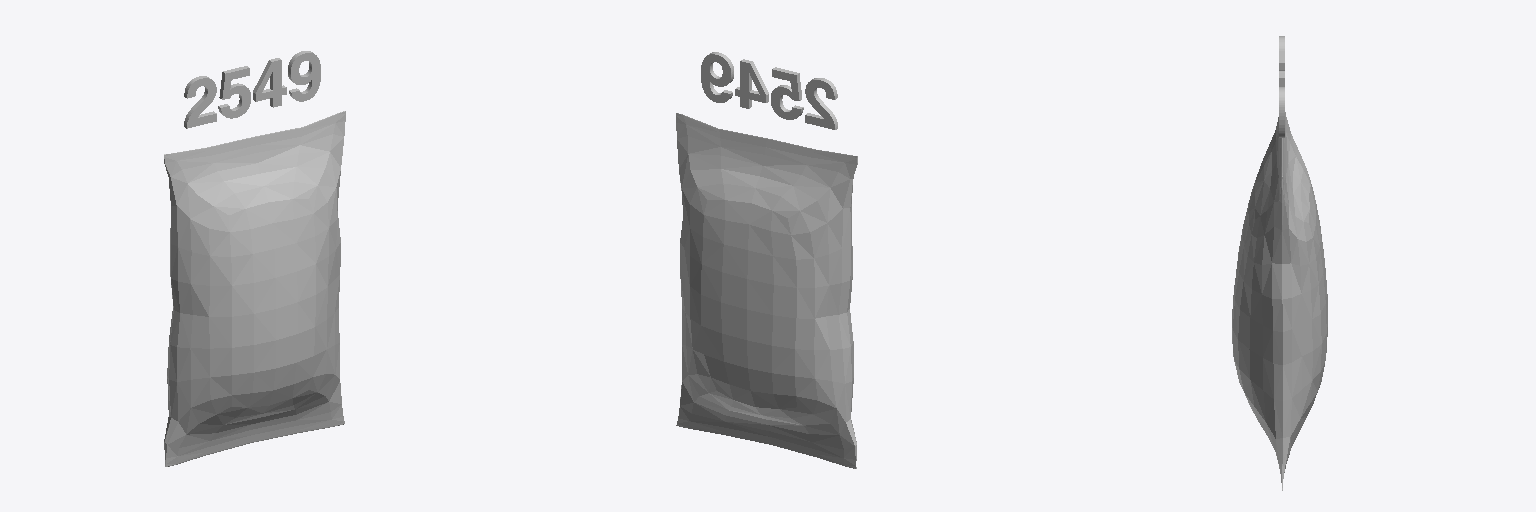
Rendered from PAPAS_CODIGO_2549.obj.
3 views of the same model, side by side, from view 1: azimuth 30°, elevation 25°; view 2: azimuth 150°, elevation 25°; view 3: azimuth 270°, elevation 25° (orthographic).
Parts seen in each view (by area): view 1: BOLSA_PAPAS_FRENTE, 2549; view 2: BOLSA_PAPAS_VUELTA, 2549; view 3: BOLSA_PAPAS_FRENTE, BOLSA_PAPAS_VUELTA, 2549.
Boxes of the visible parts, <box> form: BOLSA_PAPAS_FRENTE: <box>164,111,345,466</box>; 2549: <box>184,51,320,128</box>; BOLSA_PAPAS_VUELTA: <box>676,113,857,468</box>; 2549: <box>701,52,837,129</box>; BOLSA_PAPAS_FRENTE: <box>1232,117,1282,482</box>; BOLSA_PAPAS_VUELTA: <box>1282,112,1327,490</box>; 2549: <box>1279,36,1284,137</box>.
Bounding box in the file's own units: 1804 × 3626 × 831.